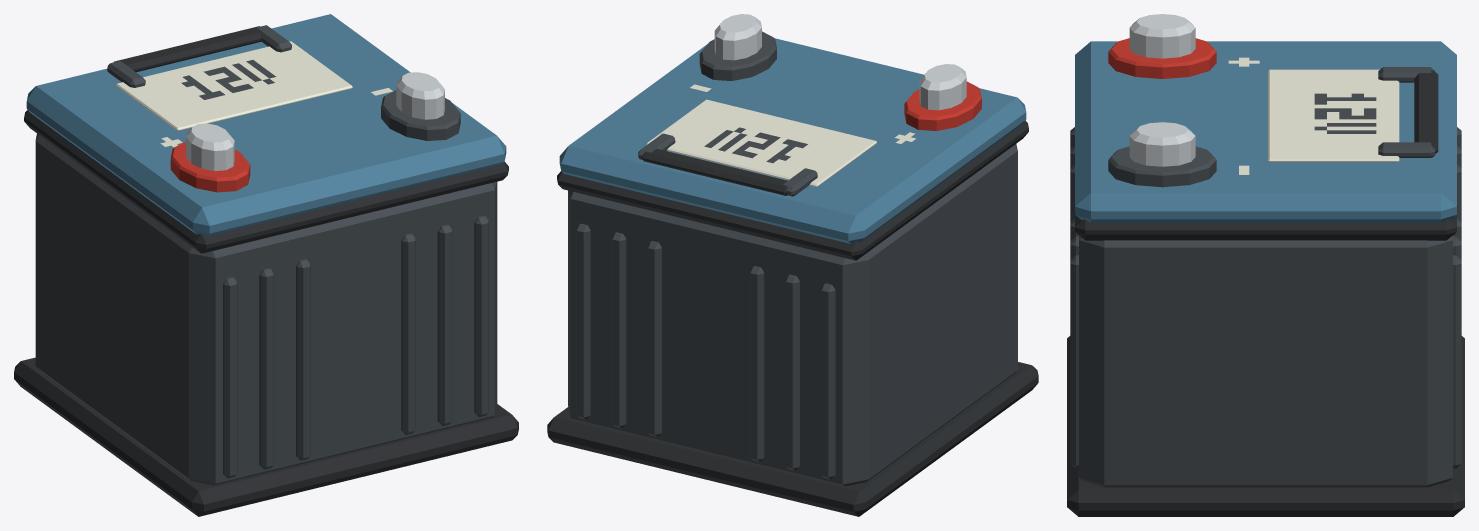
The model's file is batterypack.glb.
3 views of the same model, side by side, from view 1: azimuth 30°, elevation 25°; view 2: azimuth 150°, elevation 25°; view 3: azimuth 270°, elevation 25° (orthographic). The views are drawn at different scales.
Parts seen in each view (by area): view 1: BatteryPack; view 2: BatteryPack; view 3: BatteryPack.
Boxes of the visible parts, box(x1,y1,x2,y2) form: BatteryPack: box(14, 14, 518, 516); BatteryPack: box(547, 14, 1038, 516); BatteryPack: box(1067, 14, 1464, 516).
Bounding box in the file's own units: 1.94 × 1.94 × 1.94.
